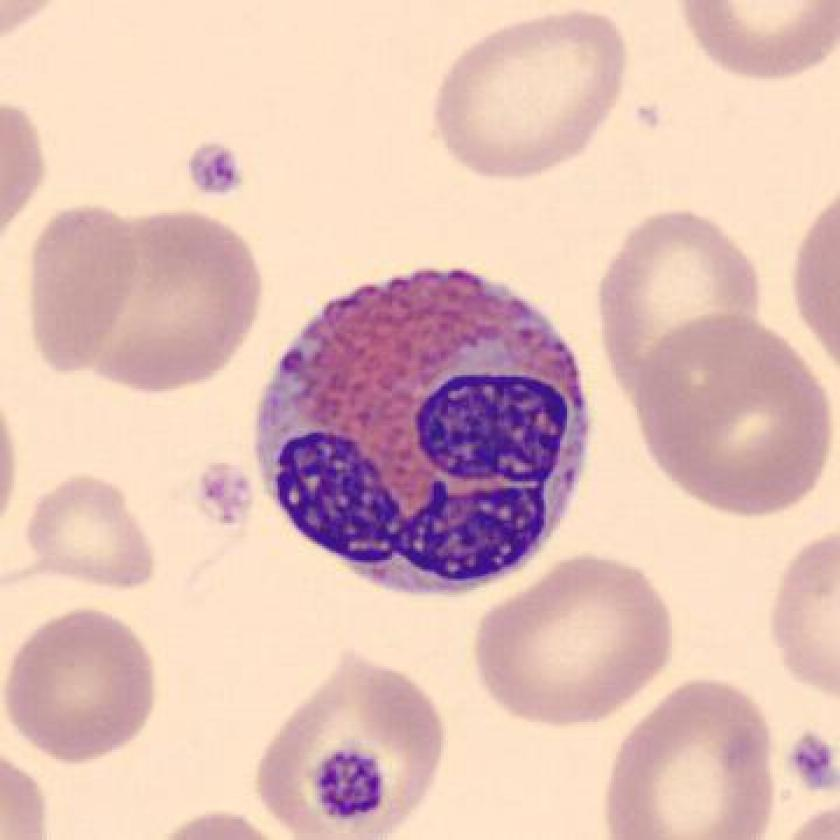eosinophil: (241, 246, 610, 612)
